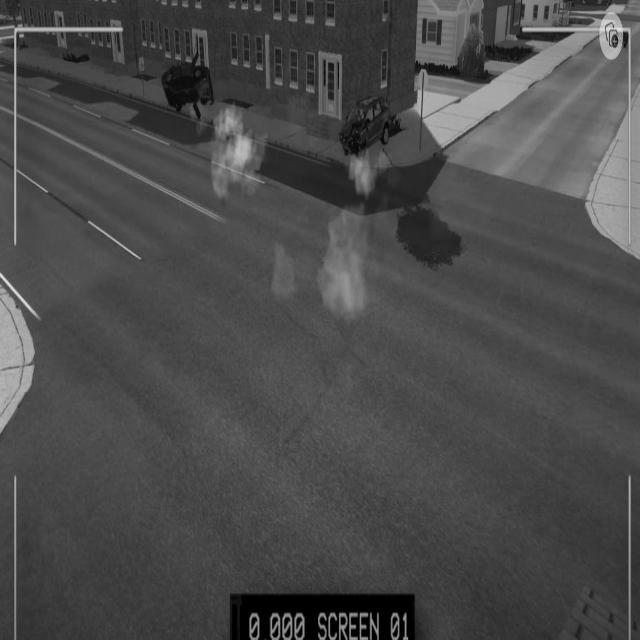accident: (159, 46, 217, 127), (337, 93, 397, 161)
